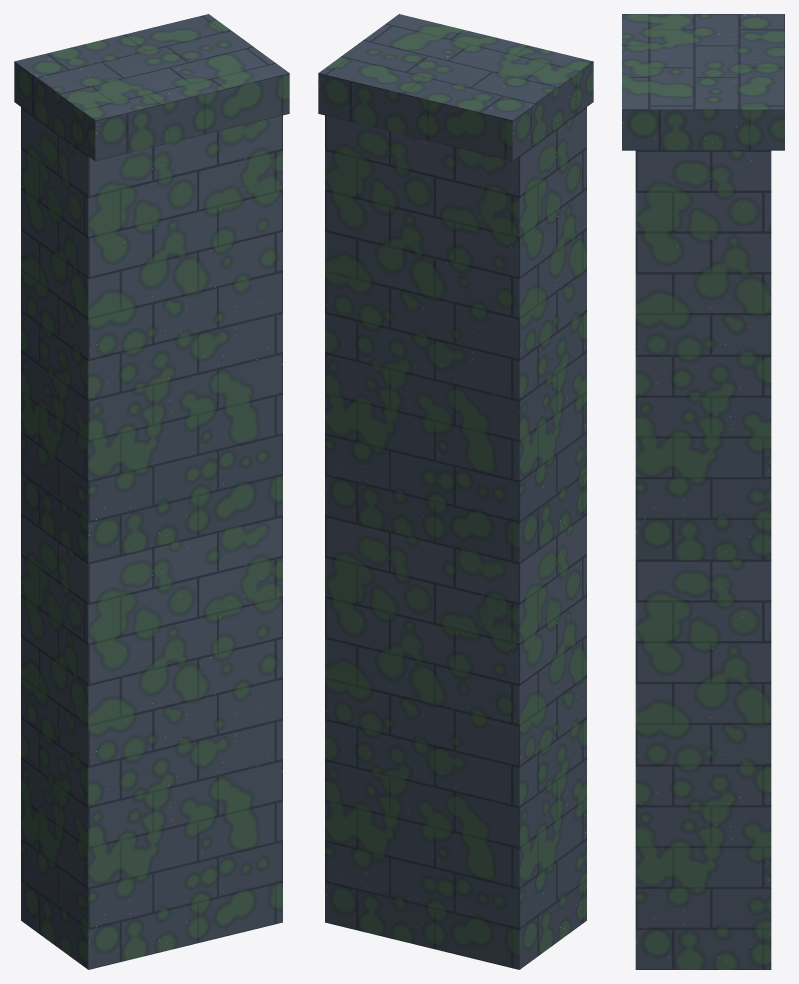
The model's file is wall_half_0_5m.obj.
3 renders of one model, left to right at view 1: azimuth 30°, elevation 25°; view 2: azimuth 150°, elevation 25°; view 3: azimuth 270°, elevation 25°, orthographic.
Parts seen in each view (by area): view 1: wall_half_0_5m; view 2: wall_half_0_5m; view 3: wall_half_0_5m.
Boxes of the visible parts, x1,y1,x2,y2 form: wall_half_0_5m: [14, 14, 289, 969]; wall_half_0_5m: [318, 14, 593, 969]; wall_half_0_5m: [622, 14, 784, 969].
Size of the model in its own units: 0.5 by 2.1 by 0.36.
1 material, 1 textured.
